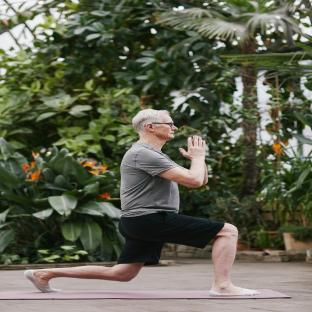Human: (26, 109, 259, 296)
